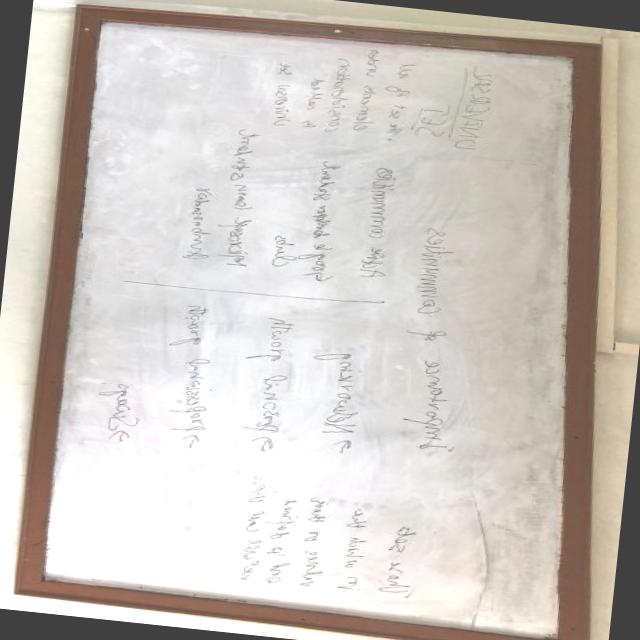White-board: (30, 13, 587, 640)
